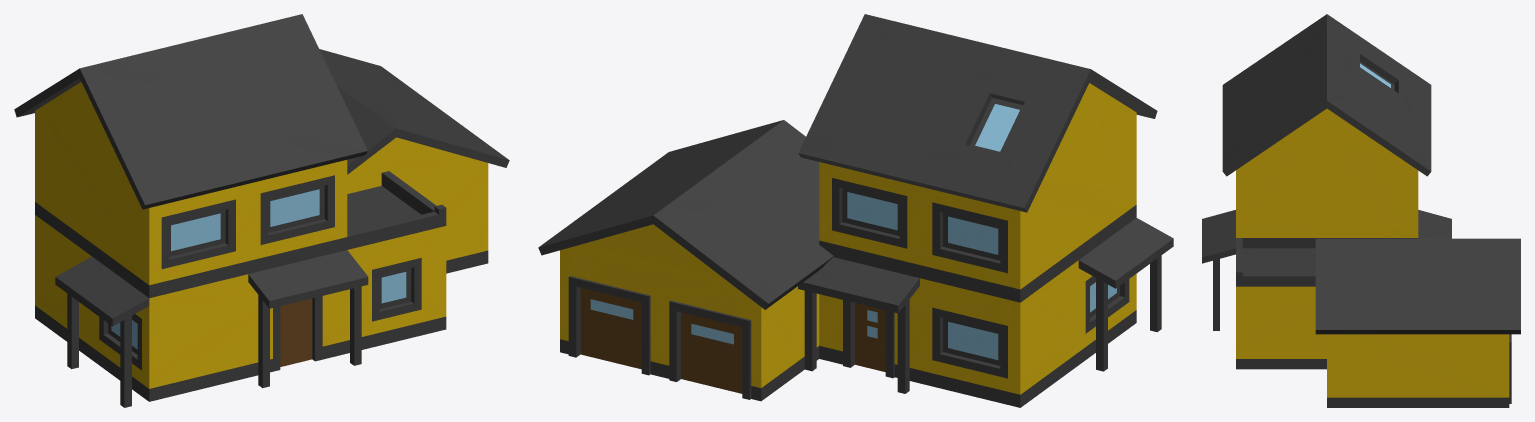
The model's file is house_type10.fbx.
3 views of the same model, side by side, from view 1: azimuth 30°, elevation 25°; view 2: azimuth 150°, elevation 25°; view 3: azimuth 270°, elevation 25° (orthographic). The views are drawn at different scales.
Visible parts, largest first — view 1: house_type10; view 2: house_type10; view 3: house_type10.
Boxes of the visible parts, left/top/right/bottom form: house_type10: left=14, top=14, right=509, bottom=407; house_type10: left=538, top=14, right=1173, bottom=407; house_type10: left=1202, top=14, right=1520, bottom=407.
Bounding box in the file's own units: 18.06 × 11.38 × 13.98.
Materials: 1 (1 with a texture image).
